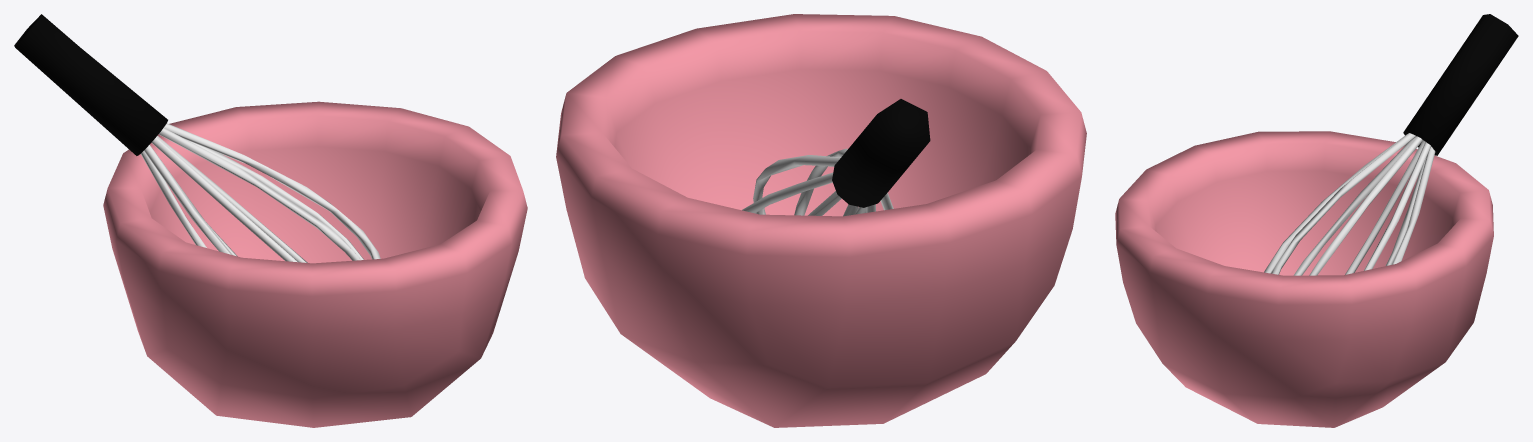
Rendered from Bakery_Utensils_01.fbx.
3 views of the same model, side by side, from view 1: azimuth 30°, elevation 25°; view 2: azimuth 150°, elevation 25°; view 3: azimuth 270°, elevation 25° (orthographic). The views are drawn at different scales.
Parts seen in each view (by area): view 1: Bakery_Utensils_01; view 2: Bakery_Utensils_01; view 3: Bakery_Utensils_01.
Part boxes in pixels (x1=…): Bakery_Utensils_01: x1=14, y1=14, x2=527, y2=427; Bakery_Utensils_01: x1=556, y1=14, x2=1086, y2=427; Bakery_Utensils_01: x1=1115, y1=14, x2=1518, y2=427.
Bounding box in the file's own units: 69.5 × 62.12 × 72.17.
